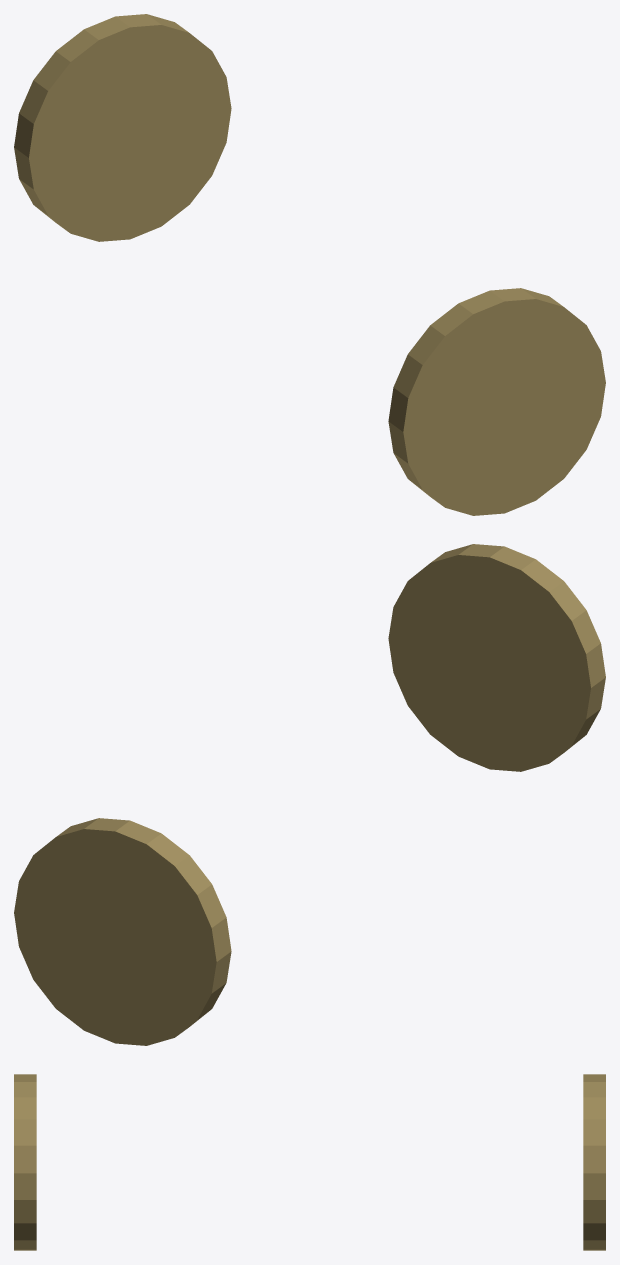
File: hab_drum_caps.glb
3 renders of one model, top to bottom at view 1: azimuth 30°, elevation 25°; view 2: azimuth 150°, elevation 25°; view 3: azimuth 270°, elevation 25°, orthographic. The views are drawn at different scales.
Parts seen in each view (by area): view 1: HabDrumCaps; view 2: HabDrumCaps; view 3: HabDrumCaps.
Boxes of the visible parts, left/top/right/bottom form: HabDrumCaps: left=14, top=14, right=605, bottom=515; HabDrumCaps: left=14, top=544, right=605, bottom=1045; HabDrumCaps: left=14, top=1074, right=605, bottom=1250.
Size of the model in its own units: 11 by 11 by 36.6.
